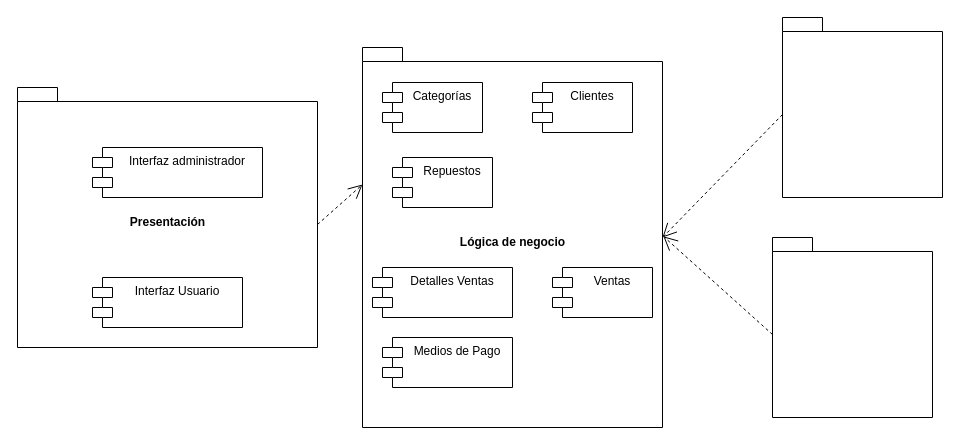
The diagram is 960 pixels wide and 445 high, and some of its shapes have lost their labels. The shapes that lost their labels are listed below. From the top down, each one's centre as x and y in pixels, then its label:
pixel 862 107: Modules
pixel 852 327: Base de datos
